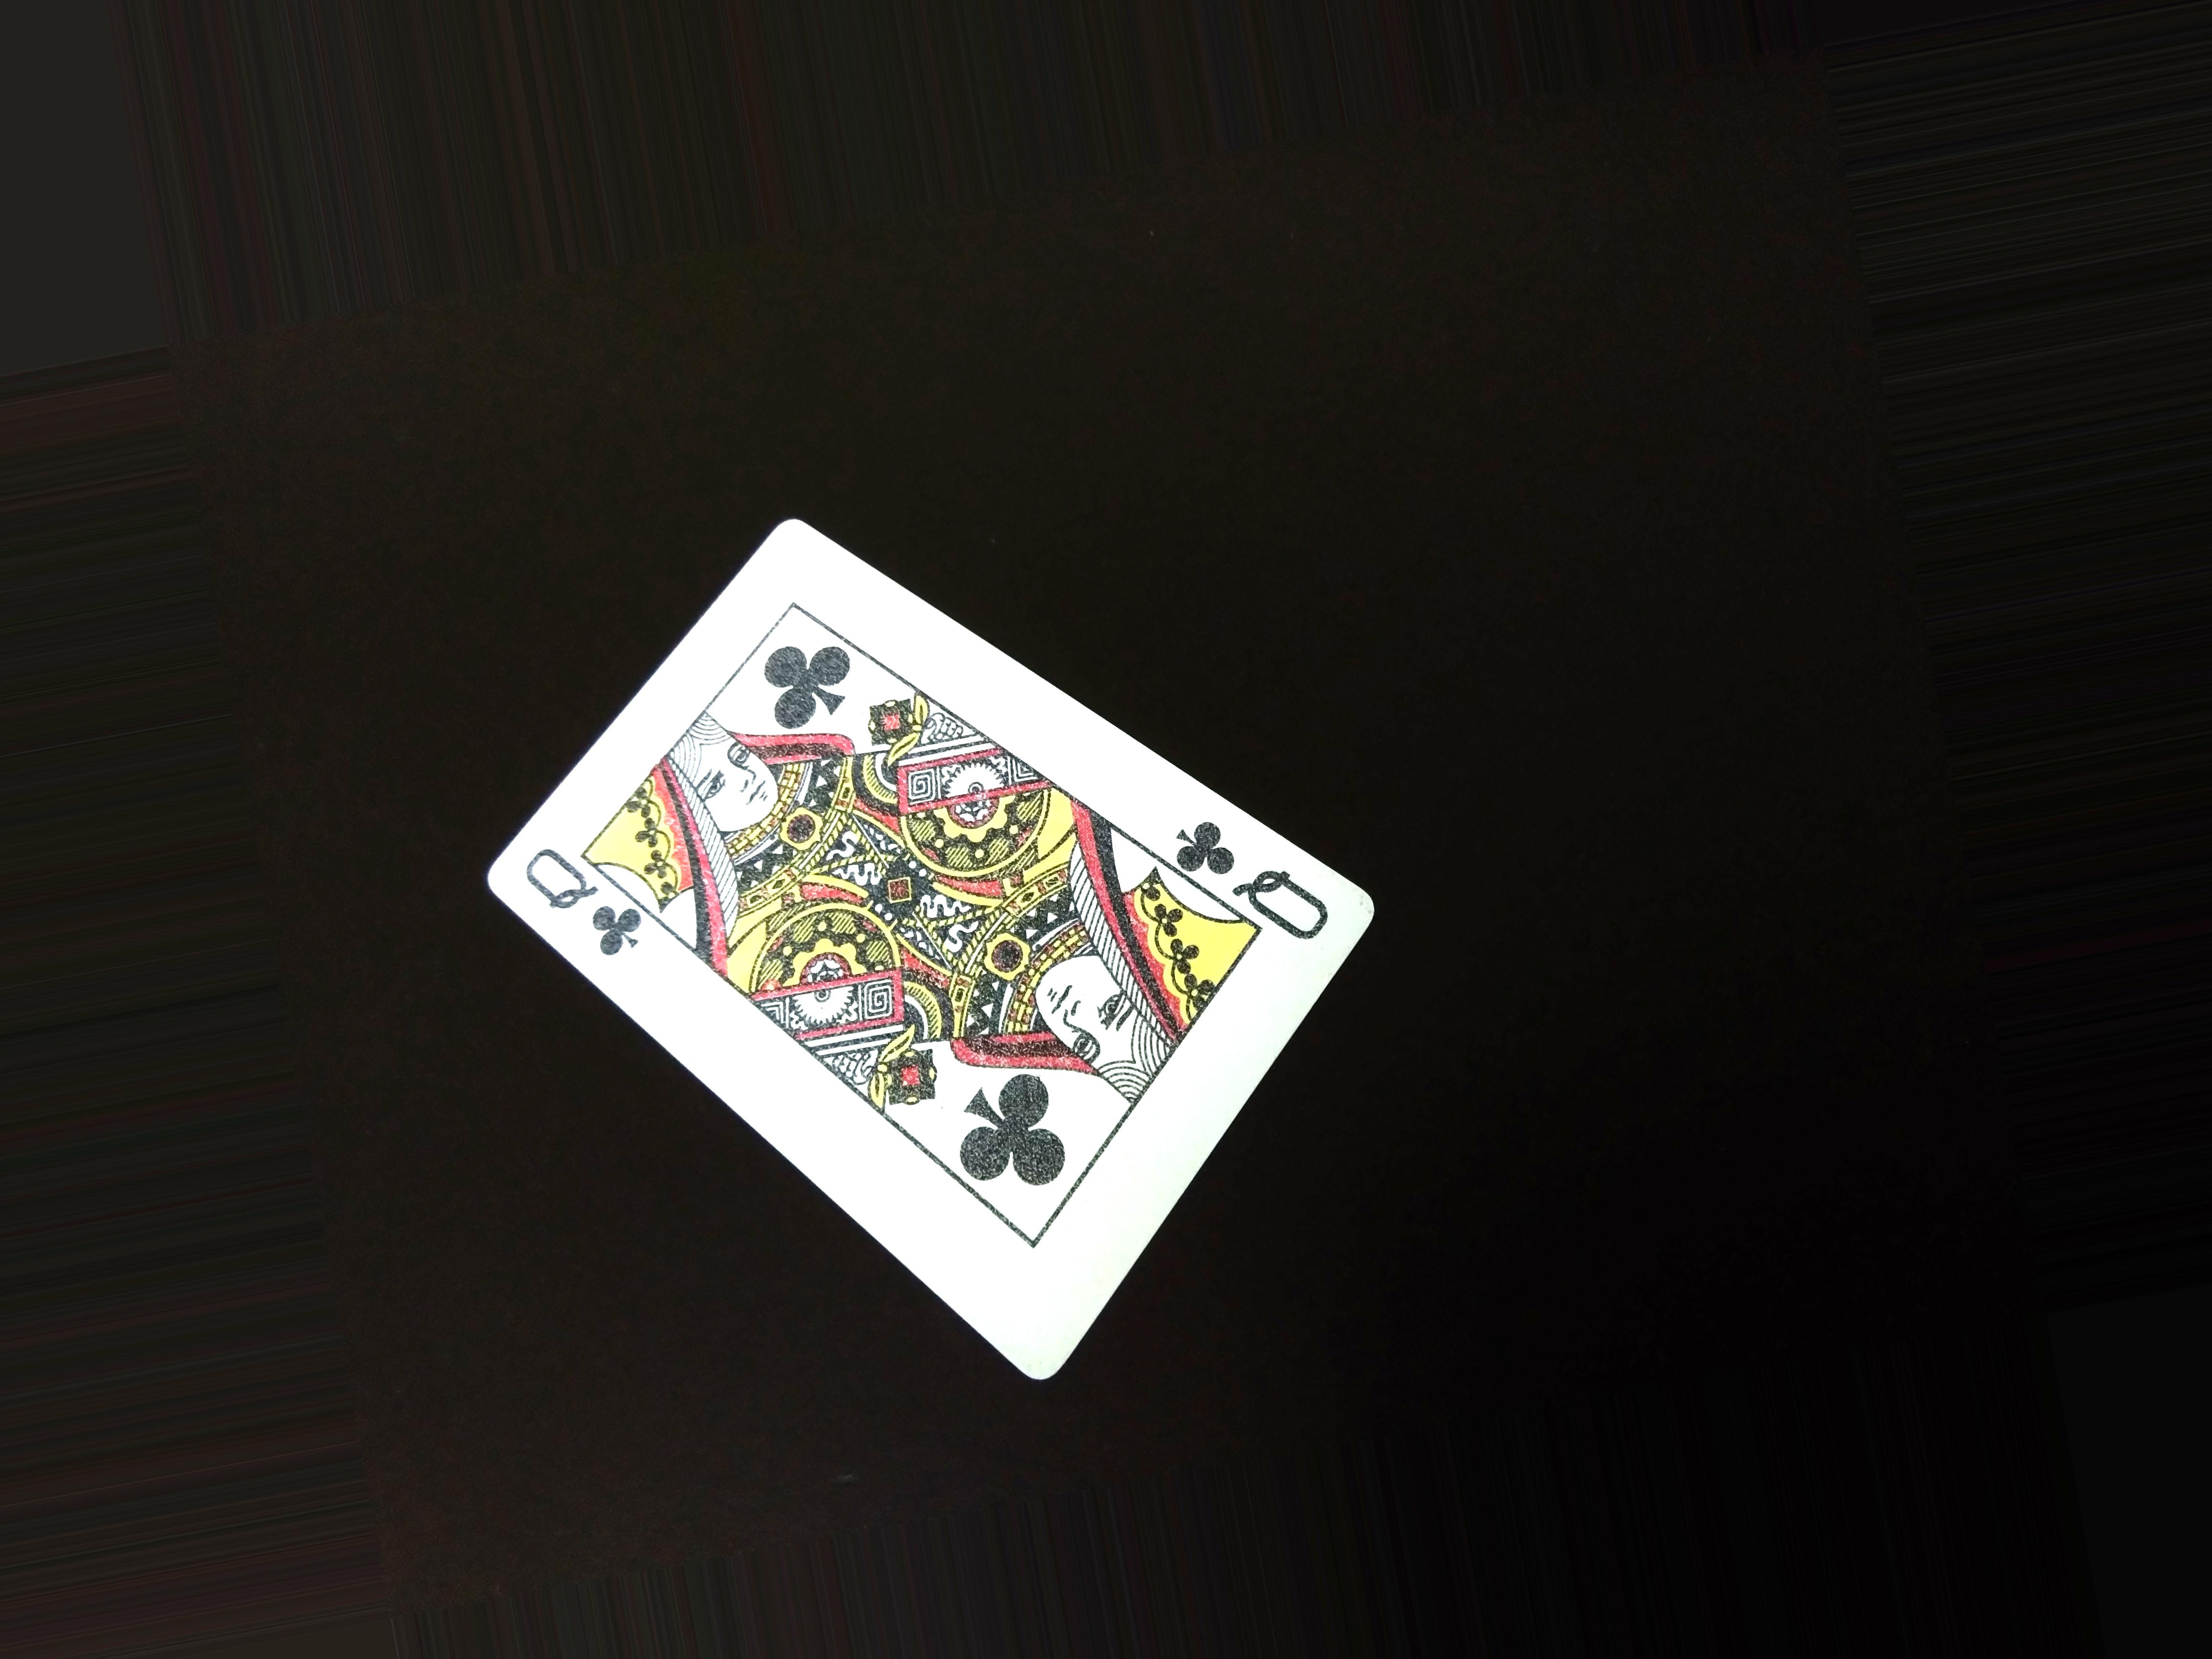QC: (503, 838, 648, 955)
